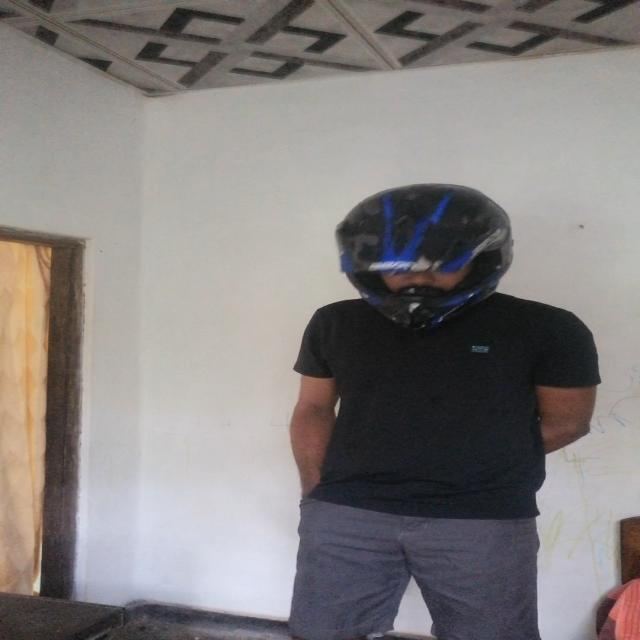Helmet_Wearer: (306, 171, 530, 337)
Person: (286, 196, 576, 640)
